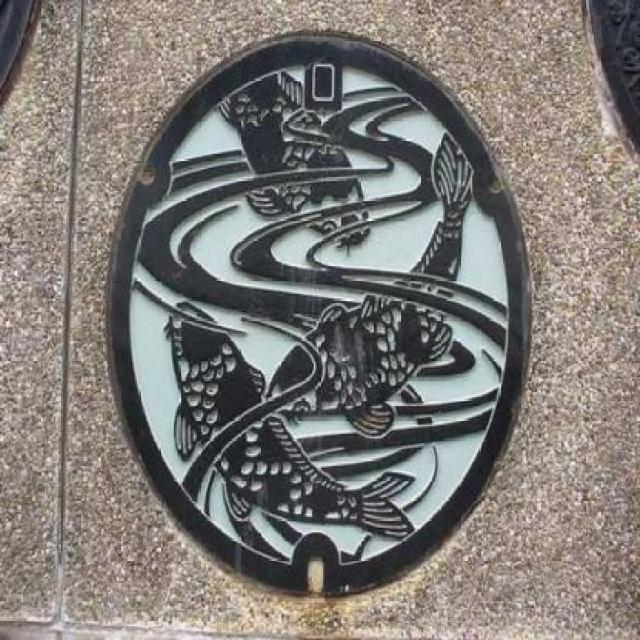Manhole: (102, 21, 538, 612)
